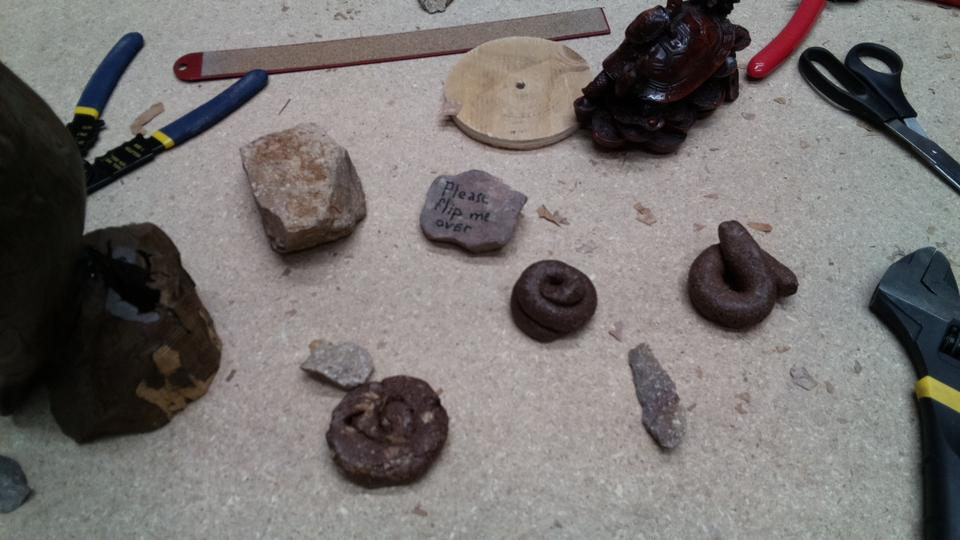poop: (321, 372, 453, 493), (683, 217, 803, 333), (506, 254, 603, 349)
